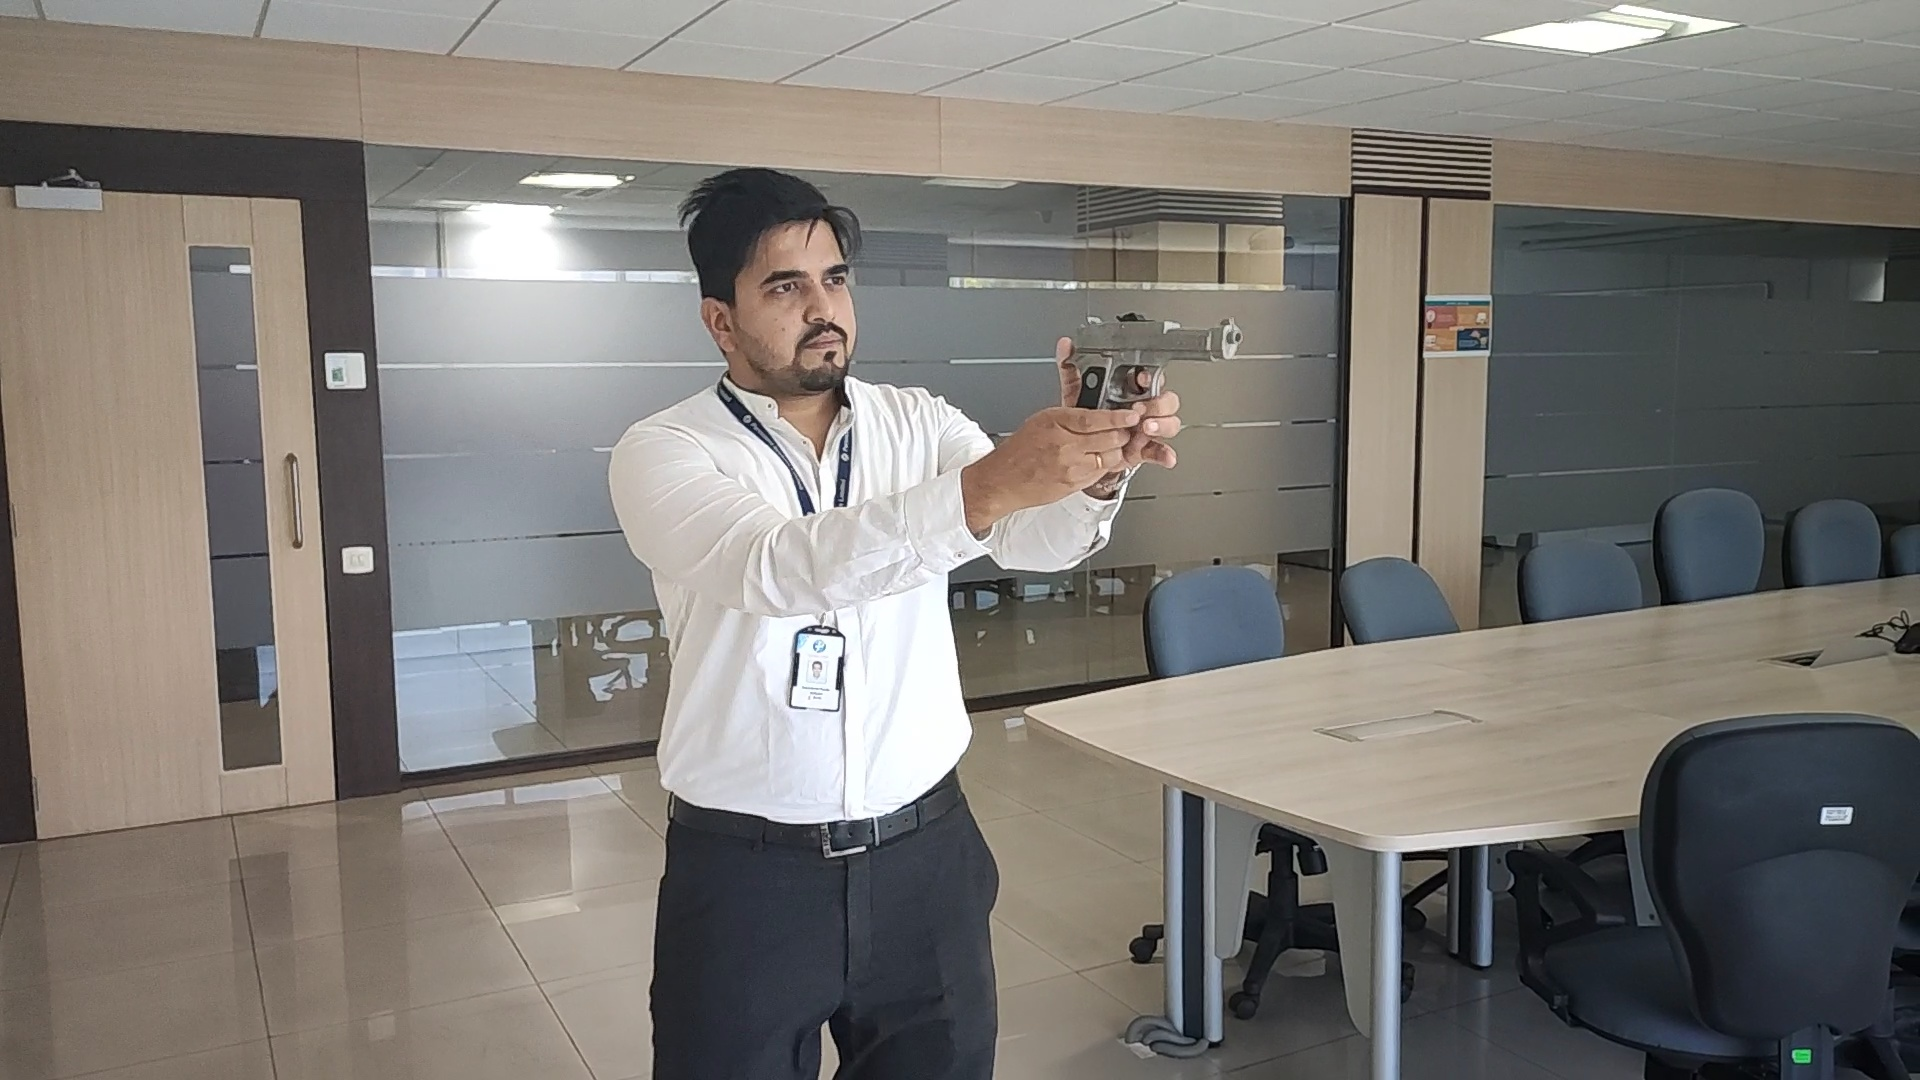gun: (1064, 313, 1241, 407)
